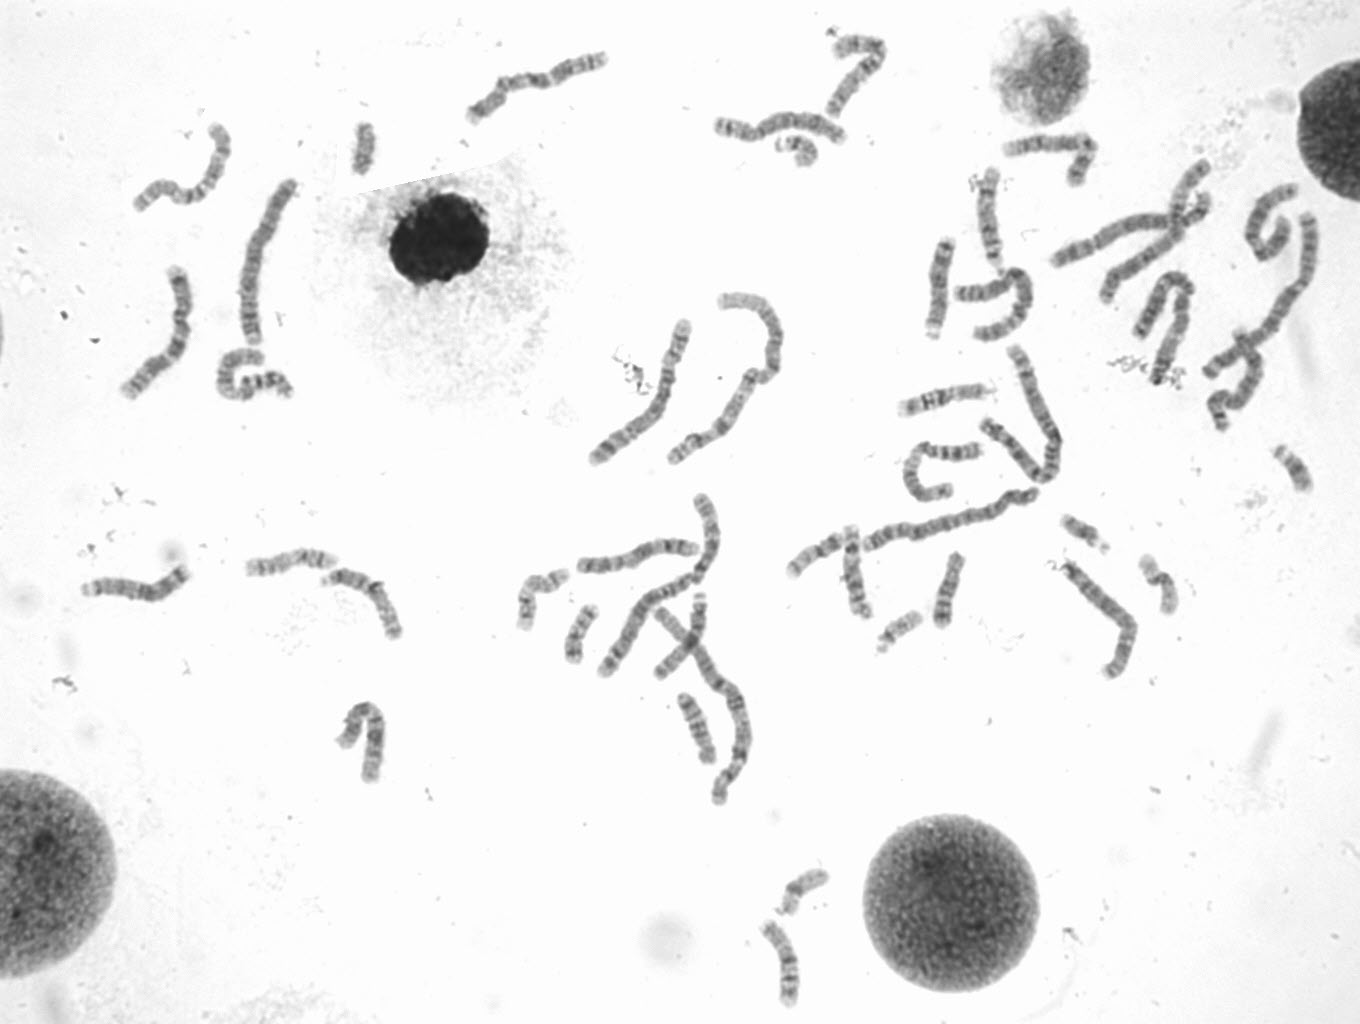chromosomes: (645, 599, 765, 810), (1194, 204, 1329, 392), (596, 489, 721, 685), (578, 313, 697, 472), (1093, 155, 1212, 310), (454, 35, 627, 128), (1044, 185, 1220, 267), (862, 482, 1044, 556), (978, 341, 1069, 487), (120, 117, 239, 221), (238, 177, 307, 349), (115, 262, 196, 406), (662, 362, 762, 468), (1057, 560, 1141, 683), (1134, 268, 1200, 386), (1203, 323, 1269, 438), (997, 124, 1108, 190), (320, 567, 411, 648), (715, 288, 787, 389), (955, 261, 1035, 343), (819, 33, 892, 122), (707, 109, 855, 150), (1240, 177, 1304, 268), (574, 535, 704, 579), (902, 435, 983, 504), (653, 589, 713, 681), (218, 343, 300, 410), (885, 376, 1005, 422), (334, 697, 390, 793), (77, 561, 192, 607), (835, 522, 883, 629), (921, 233, 963, 347), (757, 918, 810, 1008), (509, 564, 574, 636), (769, 861, 832, 923), (671, 692, 722, 768), (240, 544, 341, 583), (779, 531, 848, 586), (929, 547, 973, 630), (865, 605, 924, 664), (1140, 550, 1186, 618), (977, 161, 1006, 268), (1058, 508, 1114, 556), (769, 130, 824, 177), (1270, 440, 1312, 500), (349, 120, 382, 191)
